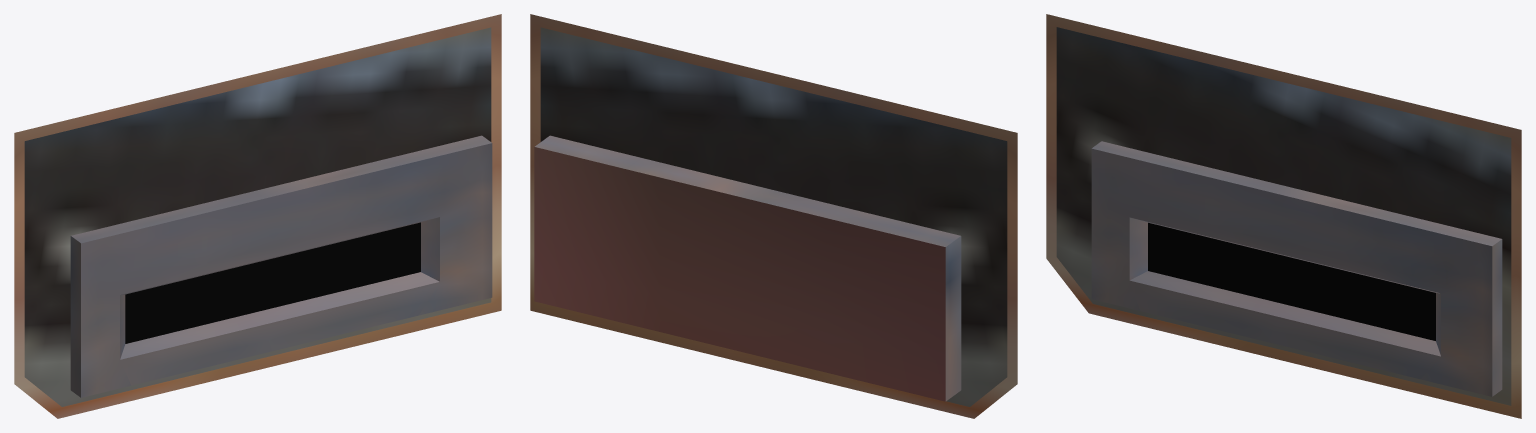
The model's file is ScorePanel.fbx.
3 views of the same model, side by side, from view 1: azimuth 30°, elevation 25°; view 2: azimuth 150°, elevation 25°; view 3: azimuth 330°, elevation 25° (orthographic). The views are drawn at different scales.
Visible parts, largest first — view 1: Cube; view 2: Cube; view 3: Cube.
Part boxes in pixels (x1=…): Cube: x1=14, y1=14, x2=501, y2=418; Cube: x1=530, y1=14, x2=1017, y2=418; Cube: x1=1046, y1=14, x2=1521, y2=418.
Size of the model in its own units: 74.98 by 43.59 by 6.87.
